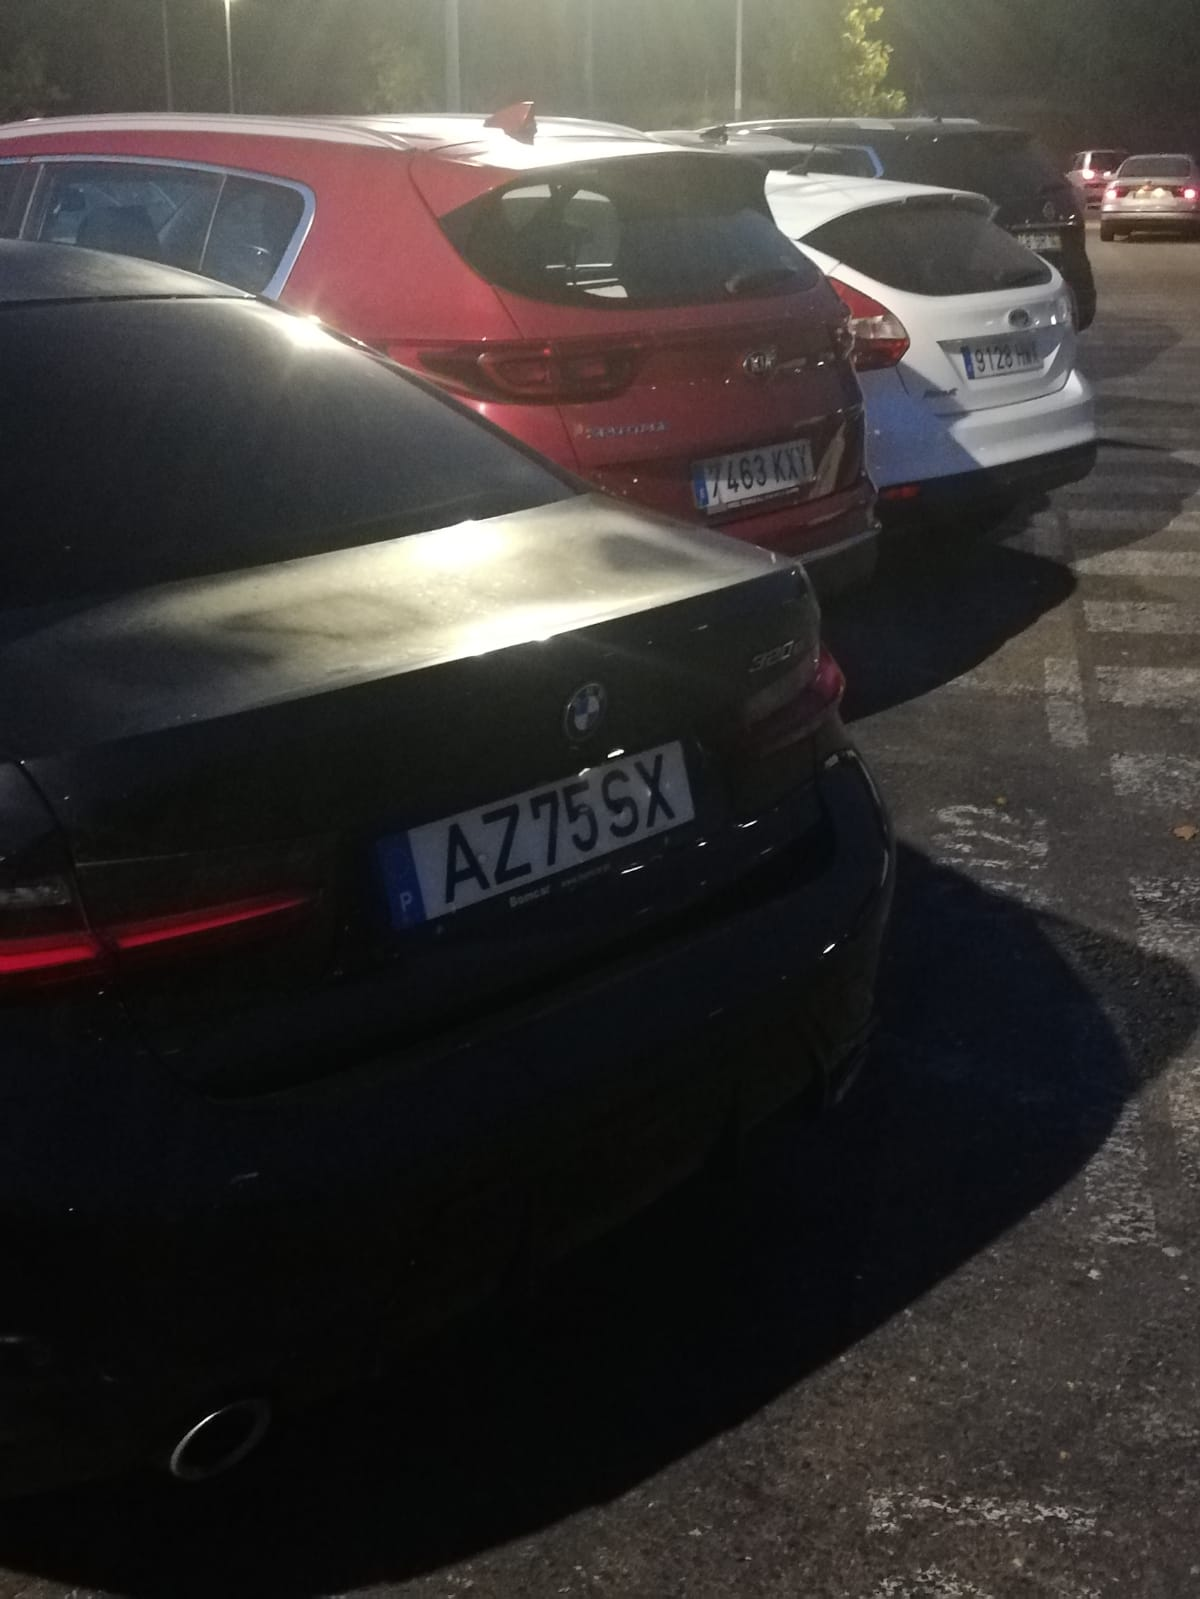Plate: (681, 466, 822, 514), (955, 348, 1049, 383)
